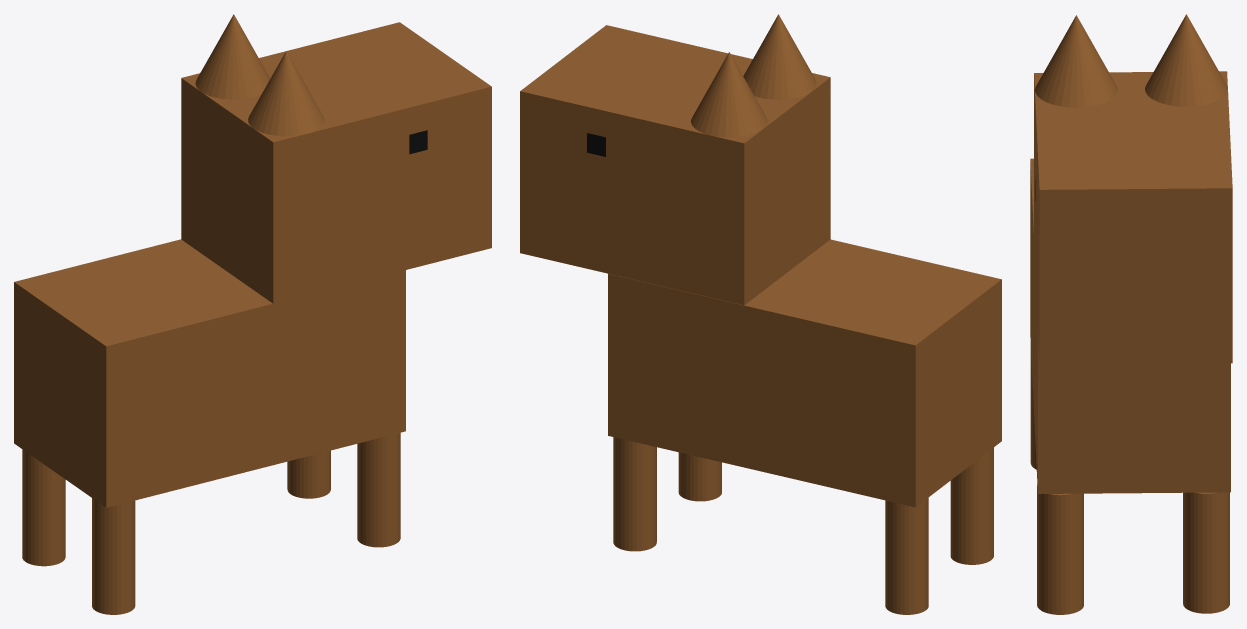
File: box_dog2.dae
3 views of the same model, side by side, from view 1: azimuth 30°, elevation 25°; view 2: azimuth 150°, elevation 25°; view 3: azimuth 270°, elevation 25° (orthographic). The views are drawn at different scales.
Parts seen in each view (by area): view 1: Cube_002, Cube_001, Cylinder_003, Cylinder, Cylinder_001, Cone, Cone_001, Cylinder_002; view 2: Cube_002, Cube_001, Cylinder_001, Cylinder_002, Cylinder_003, Cone_001, Cone, Cylinder; view 3: Cube_001, Cube_002, Cylinder_002, Cylinder, Cone_001, Cone, Cylinder_003.
Part boxes in pixels (box(x1,y1,x2,y2)): Cube_002: box(14, 239, 405, 507); Cube_001: box(181, 22, 491, 303); Cylinder_003: box(92, 498, 135, 614); Cylinder: box(357, 433, 400, 547); Cylinder_001: box(22, 449, 65, 566); Cone: box(248, 51, 324, 136); Cone_001: box(195, 14, 270, 99); Cylinder_002: box(287, 450, 330, 498); Cube_002: box(608, 239, 1001, 507); Cube_001: box(520, 25, 830, 305); Cylinder_001: box(885, 497, 928, 614); Cylinder_002: box(613, 437, 656, 551); Cylinder_003: box(950, 447, 993, 564); Cone_001: box(691, 52, 767, 137); Cone: box(743, 14, 816, 99); Cylinder: box(678, 452, 721, 501); Cube_001: box(1034, 71, 1232, 364); Cube_002: box(1030, 158, 1230, 493); Cylinder_002: box(1183, 492, 1229, 613); Cylinder: box(1037, 485, 1083, 614); Cone_001: box(1145, 14, 1227, 106); Cone: box(1035, 15, 1117, 107); Cylinder_003: box(1030, 345, 1036, 469).
Size of the model in its own units: 5.09 by 2.1 by 6.23.
